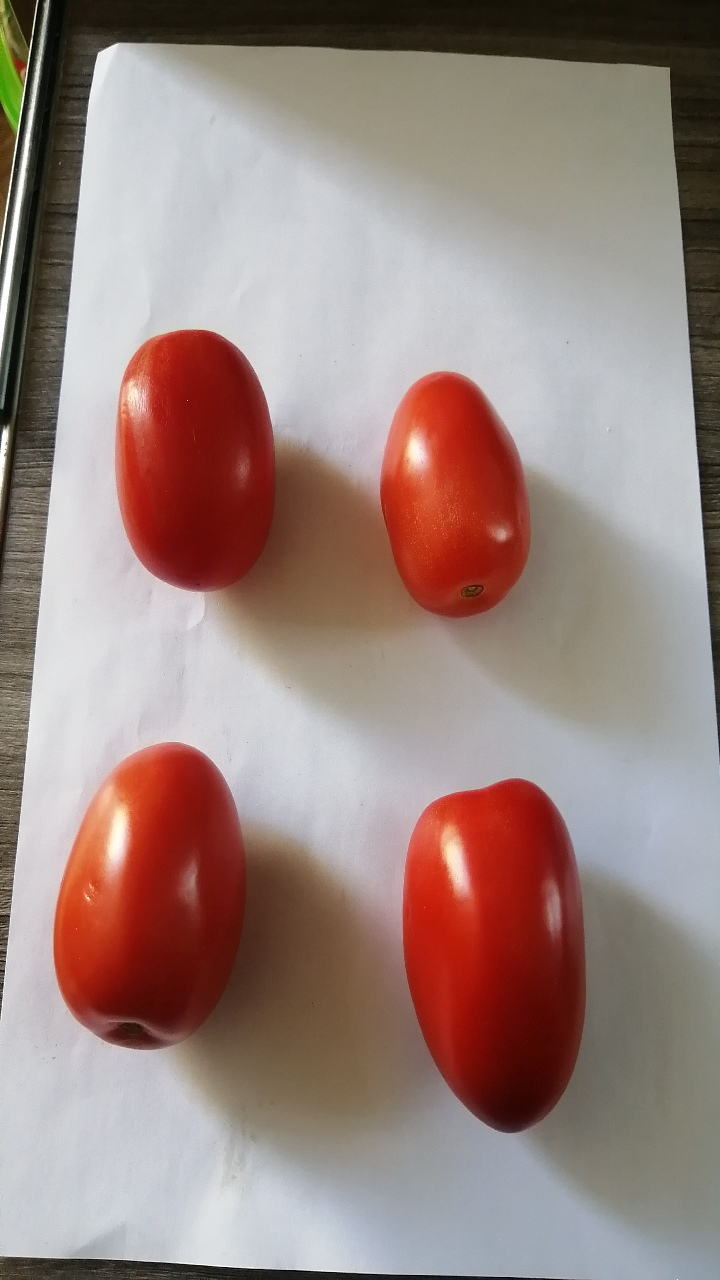tomateRojo: (392, 746, 600, 1157), (32, 714, 244, 1063), (103, 314, 317, 614), (357, 369, 558, 637)
